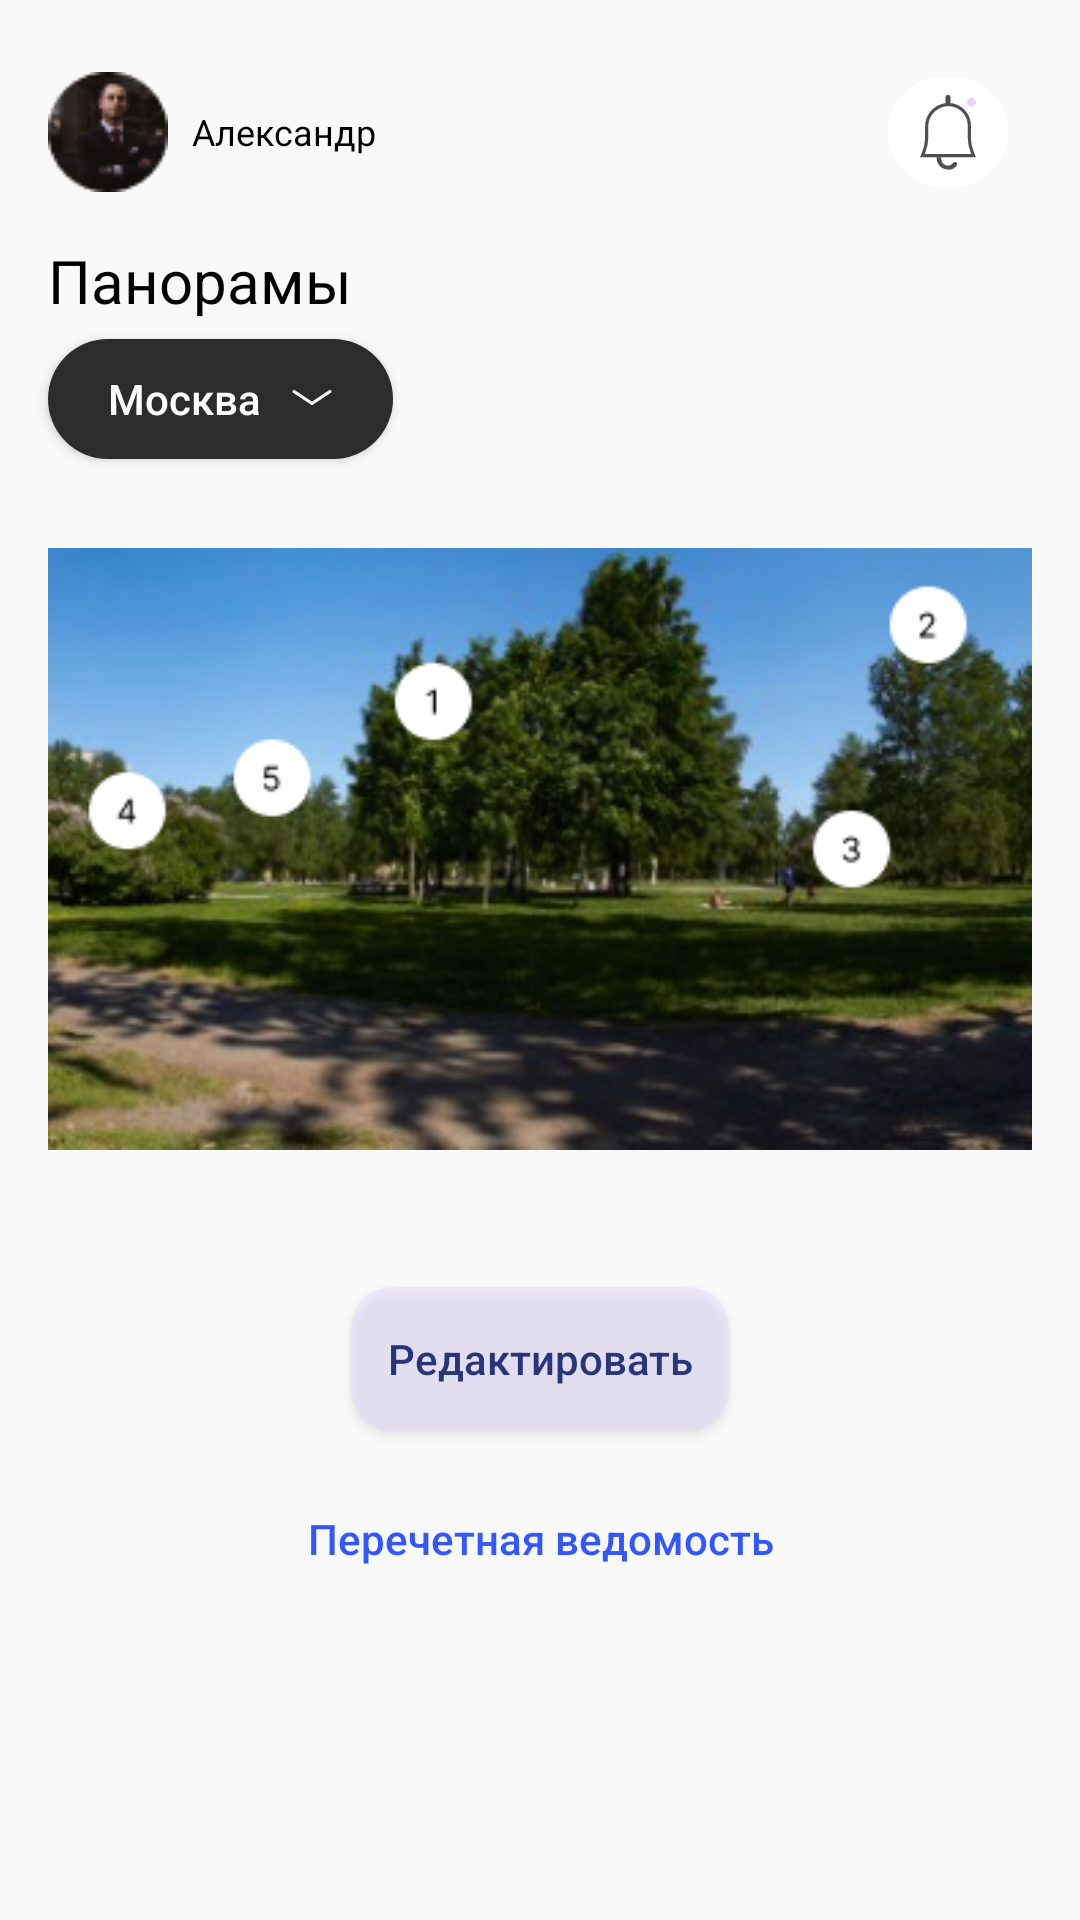

Screen size 1080 × 1920. Icon name, then its box in pixels as (x1, y1, x2, y2):
notifications: (920, 95, 976, 170)
